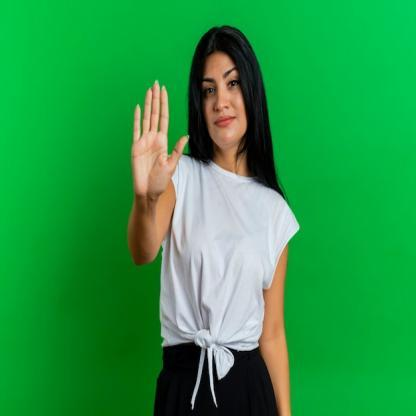stop: (129, 76, 191, 198)
